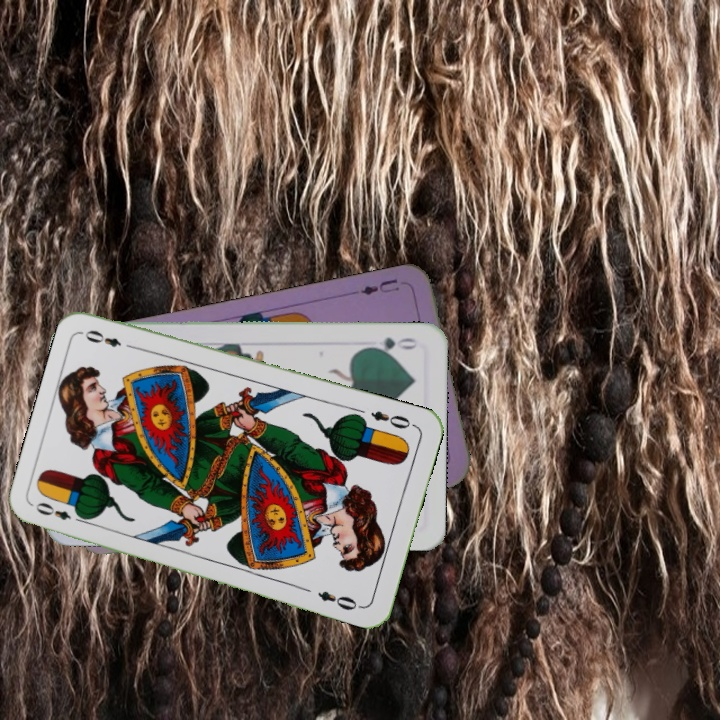EO: (31, 498, 89, 526), (367, 406, 418, 432)
EU: (356, 275, 402, 298)
GO: (362, 333, 421, 356)
